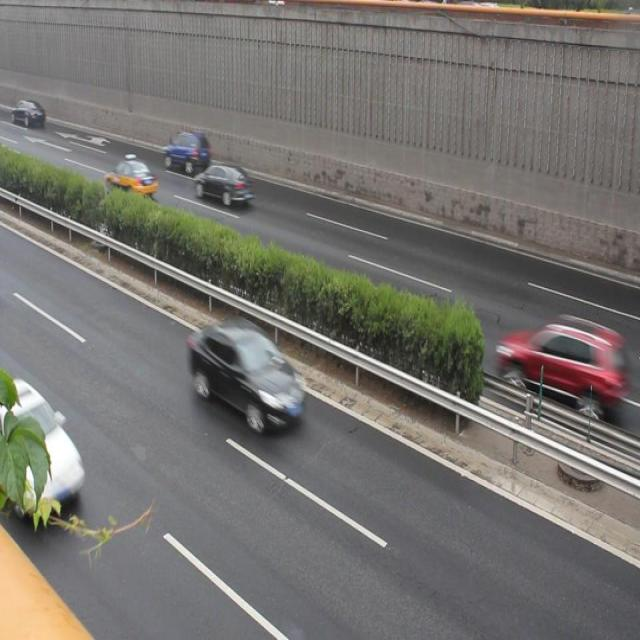car: (185, 316, 304, 428), (494, 315, 624, 412), (1, 374, 83, 520), (195, 162, 254, 210), (102, 157, 158, 202), (164, 133, 209, 175)
